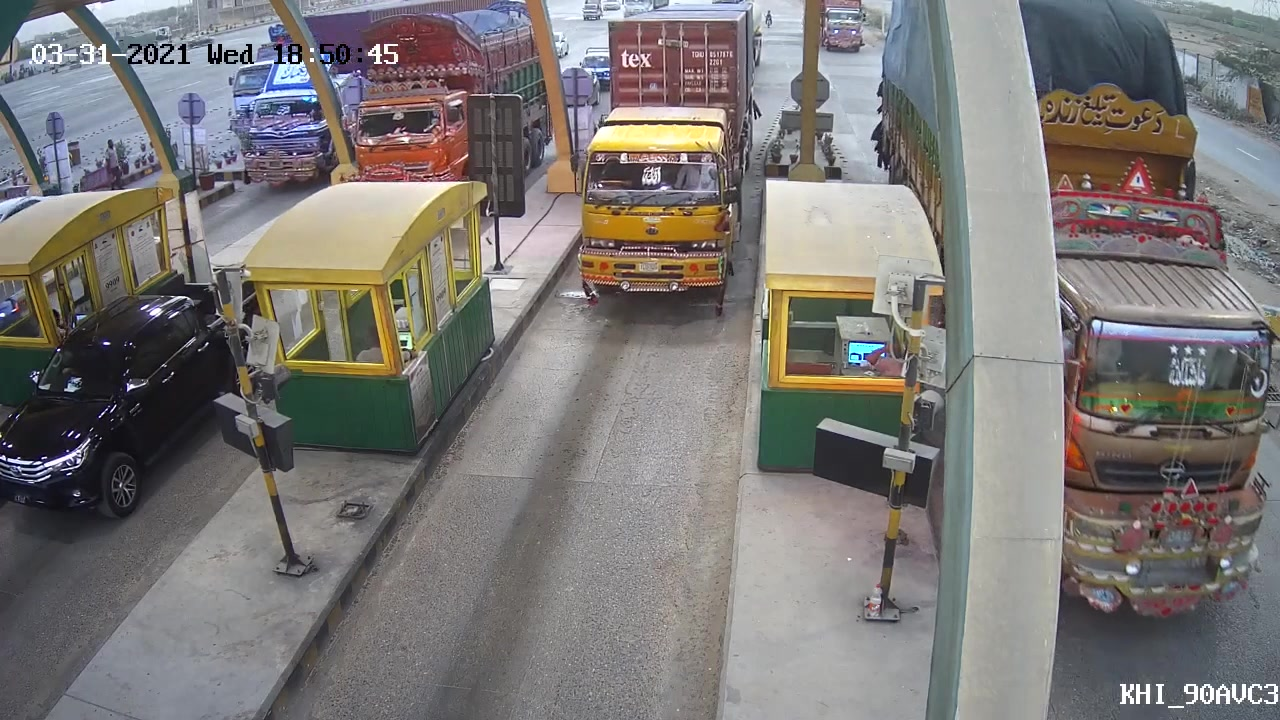F6: (566, 1, 761, 325)
